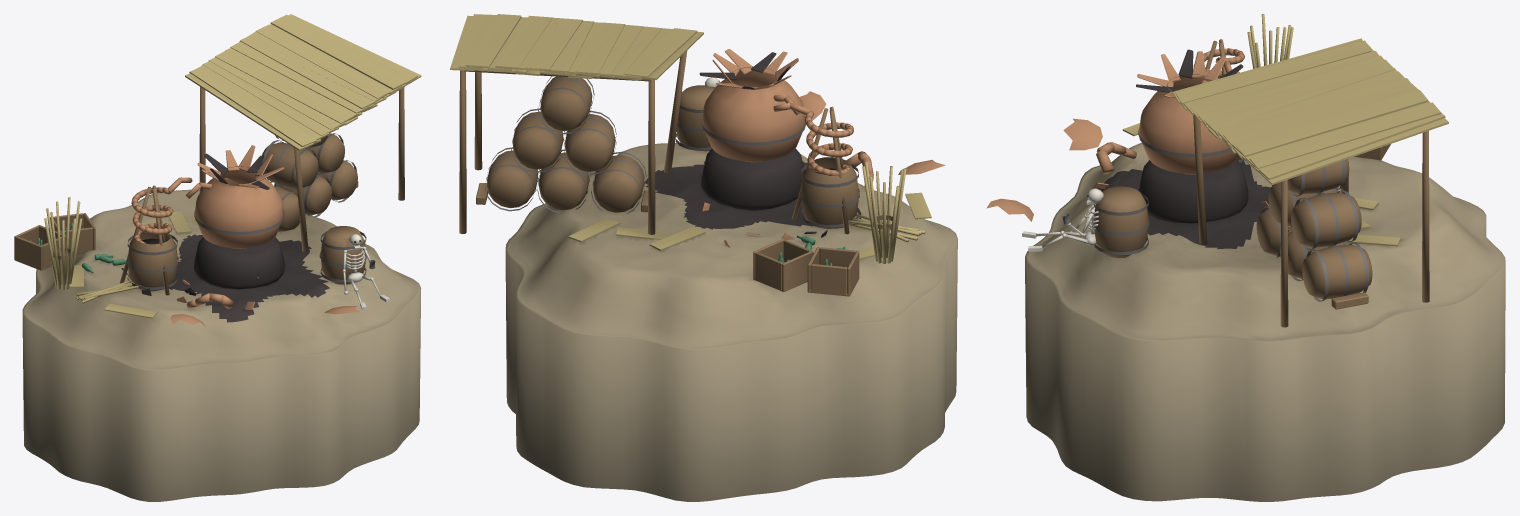
File: rum_still.72fa28d7.glb
The picture shows the model from 3 angles, left to right: view 1: azimuth 30°, elevation 25°; view 2: azimuth 150°, elevation 25°; view 3: azimuth 270°, elevation 25°; orthographic projection. The views are drawn at different scales.
Visible parts, largest first — view 1: rum_still; view 2: rum_still; view 3: rum_still.
Part boxes in pixels (bbox=[...]): rum_still: bbox=[14, 14, 421, 501]; rum_still: bbox=[450, 14, 957, 501]; rum_still: bbox=[986, 14, 1505, 501].
Bounding box in the file's own units: 7.34 × 5.72 × 7.05.
